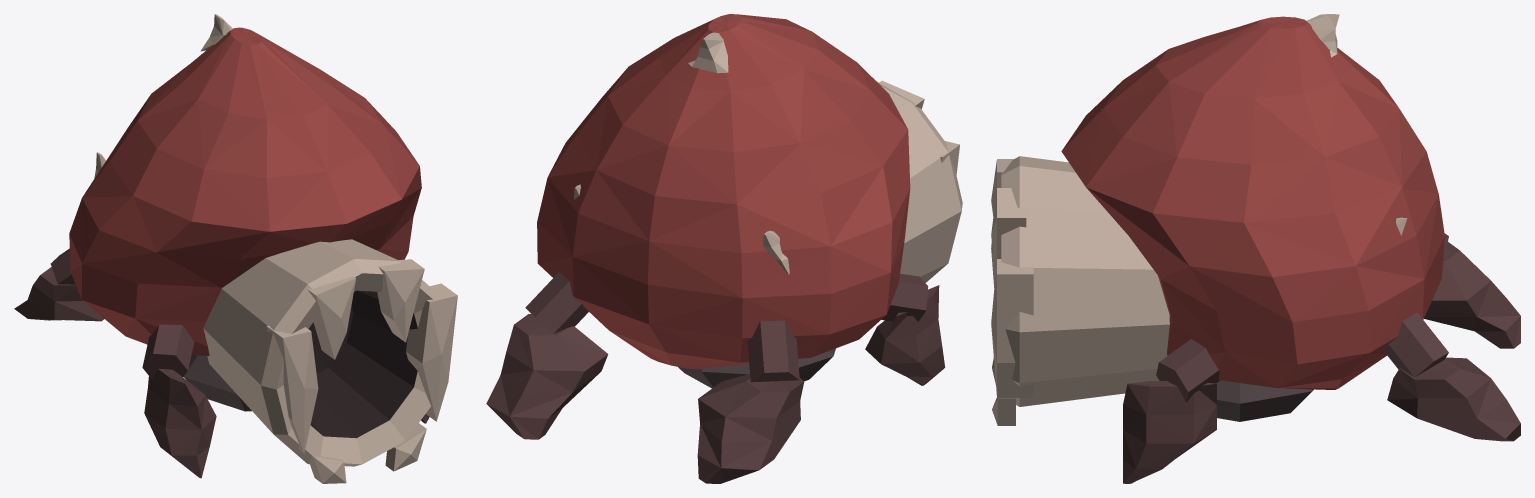
File: swarmer-model.glb
3 renders of one model, left to right at view 1: azimuth 30°, elevation 25°; view 2: azimuth 150°, elevation 25°; view 3: azimuth 270°, elevation 25°, orthographic. The views are drawn at different scales.
Visible parts, largest first — view 1: RedShell, JawShell, FrontLeg.L, SideFang.R, SideFang.L, UpperFang.R, BackLeg.R, UpperFang.L, FrontJoint.L, UnderShell, LowerTooth.R, LowerTooth.L (+2 smaller); view 2: RedShell, BackLeg.L, BackLeg.R, JawShell, FrontLeg.L, BackJoint.R, BackJoint.L, UnderShell, FrontJoint.L, BackSpike, ShellSpike.L; view 3: RedShell, JawShell, BackLeg.L, FrontLeg.R, BackLeg.R, SideFang.R, UnderShell, BackJoint.L, FrontJoint.R, UpperFang.R, BackSpike, LowerTooth.R.
Part boxes in pixels (x1,y1,x2,y2): RedShell: (69,27,421,355); JawShell: (203,239,434,466); FrontLeg.L: (144,368,216,478); SideFang.R: (406,283,457,421); SideFang.L: (266,325,318,453); UpperFang.R: (377,259,424,342); BackLeg.R: (14,267,103,321); UpperFang.L: (307,276,355,359); FrontJoint.L: (142,324,194,379); UnderShell: (183,355,251,411); LowerTooth.R: (385,423,426,471); LowerTooth.L: (309,455,346,483); RedShell: (537,14,910,369); BackLeg.L: (486,314,608,439); BackLeg.R: (697,373,804,483); JawShell: (877,81,962,282); FrontLeg.L: (865,285,945,385); BackJoint.R: (747,320,799,382); BackJoint.L: (525,272,588,333); UnderShell: (678,348,835,388); FrontJoint.L: (881,273,928,321); BackSpike: (688,32,728,73); ShellSpike.L: (763,230,789,274); RedShell: (1061,16,1444,389); JawShell: (1001,156,1169,406); BackLeg.L: (1387,357,1520,441); FrontLeg.R: (1123,381,1216,483); BackLeg.R: (1424,242,1520,348); SideFang.R: (991,259,1033,397); UnderShell: (1216,380,1313,421); BackJoint.L: (1384,312,1448,377); FrontJoint.R: (1156,339,1219,402); UpperFang.R: (991,188,1026,271); BackSpike: (1307,14,1339,57); LowerTooth.R: (992,398,1015,425).
Bounding box in the file's own units: 0.5579 × 0.6124 × 0.722.
